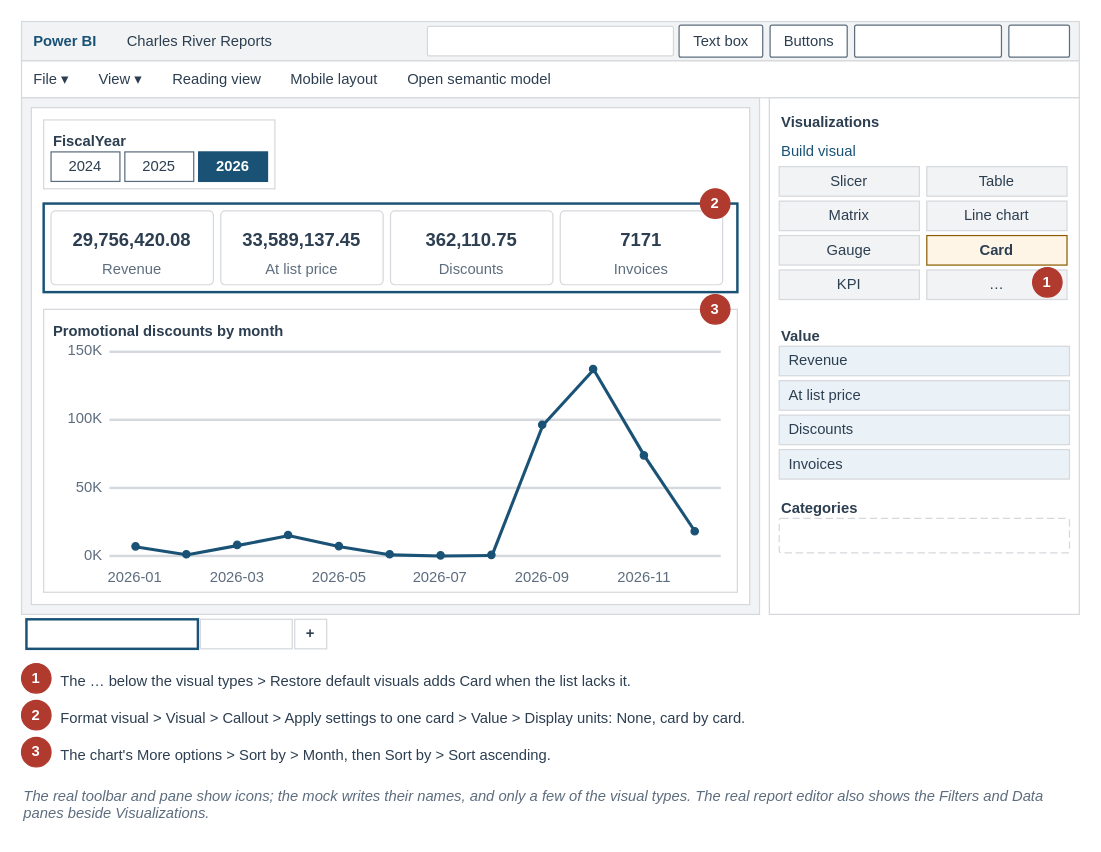
Some shapes in this 1101 by 852 pixel diagram are drawn without their labels. Each missing label, with the centre of its shape:
"Add data fields here" belongs at point (923, 535).
"Sales and Discounts" belongs at point (112, 633).
"Save" belongs at point (1038, 40).
"Search" belongs at point (549, 40).
"Validation" belongs at point (245, 633).
"Visual interactions" belongs at point (927, 40).
